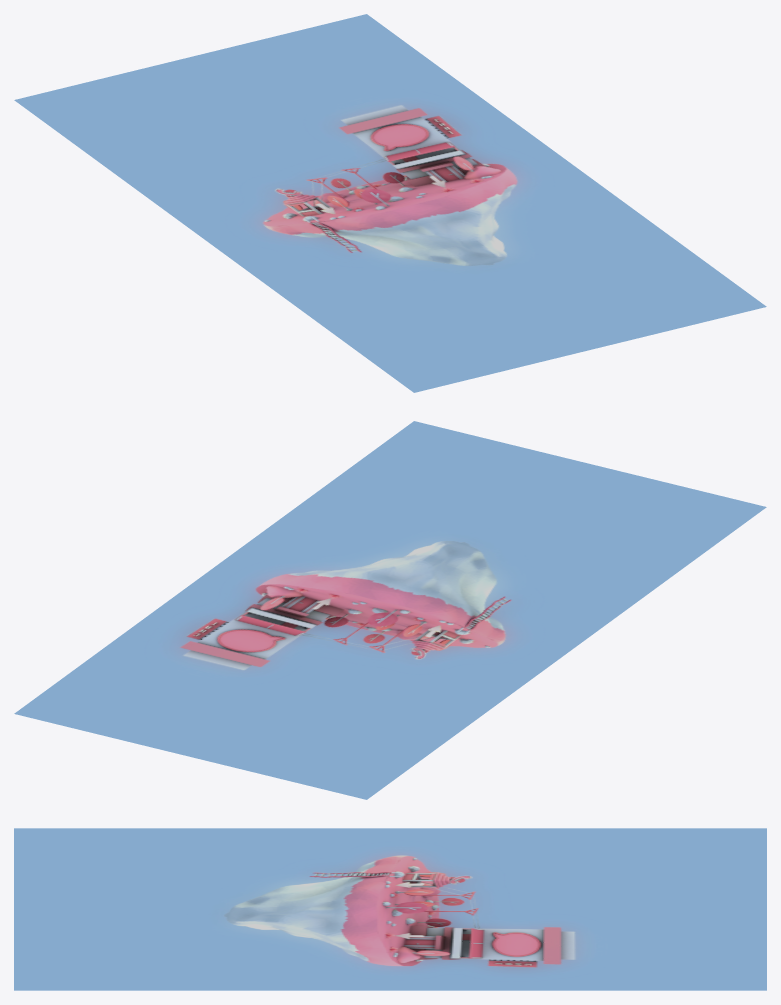
File: testje2.gltf
3 renders of one model, top to bottom at view 1: azimuth 30°, elevation 25°; view 2: azimuth 150°, elevation 25°; view 3: azimuth 270°, elevation 25°, orthographic. The views are drawn at different scales.
Parts seen in each view (by area): view 1: Plane; view 2: Plane; view 3: Plane.
Part boxes in pixels (x1,y1,x2,y2): Plane: (14, 14, 766, 392); Plane: (14, 421, 766, 799); Plane: (14, 828, 766, 990).
Bounding box in the file's own units: 17.73 × 0 × 34.82.
1 material, 1 textured.
